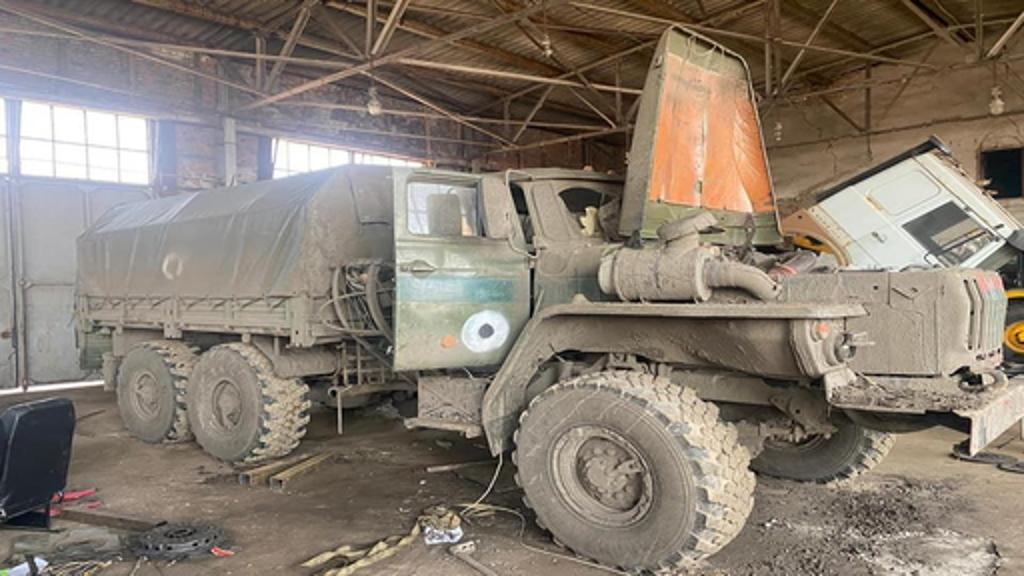TRUCK: (60, 144, 1016, 572)
